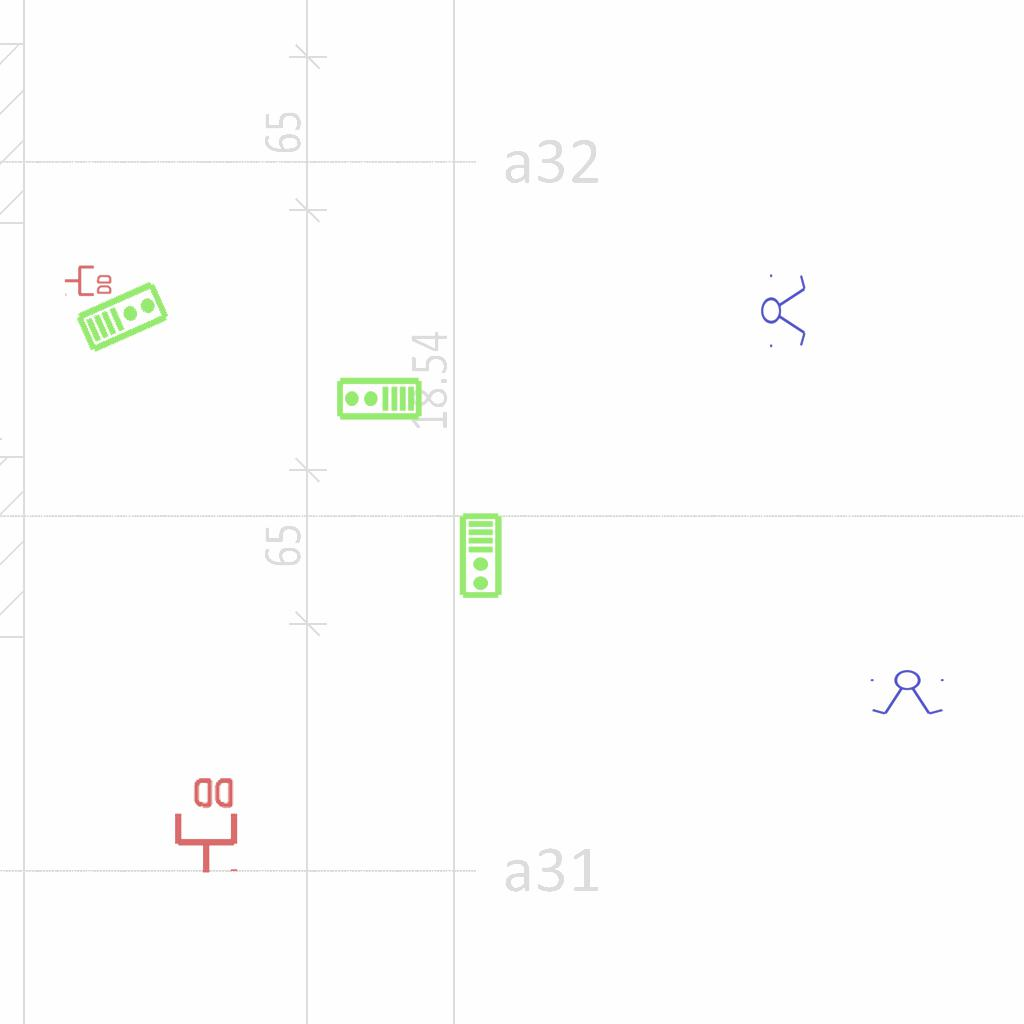Datenanschluss_zweifach: (170, 773, 239, 876), (63, 263, 114, 297)
Gegensprechanlage_mit_Video: (72, 276, 173, 356), (335, 376, 423, 423), (458, 512, 505, 600)
Serienschalter: (866, 669, 950, 717), (760, 268, 808, 352)
